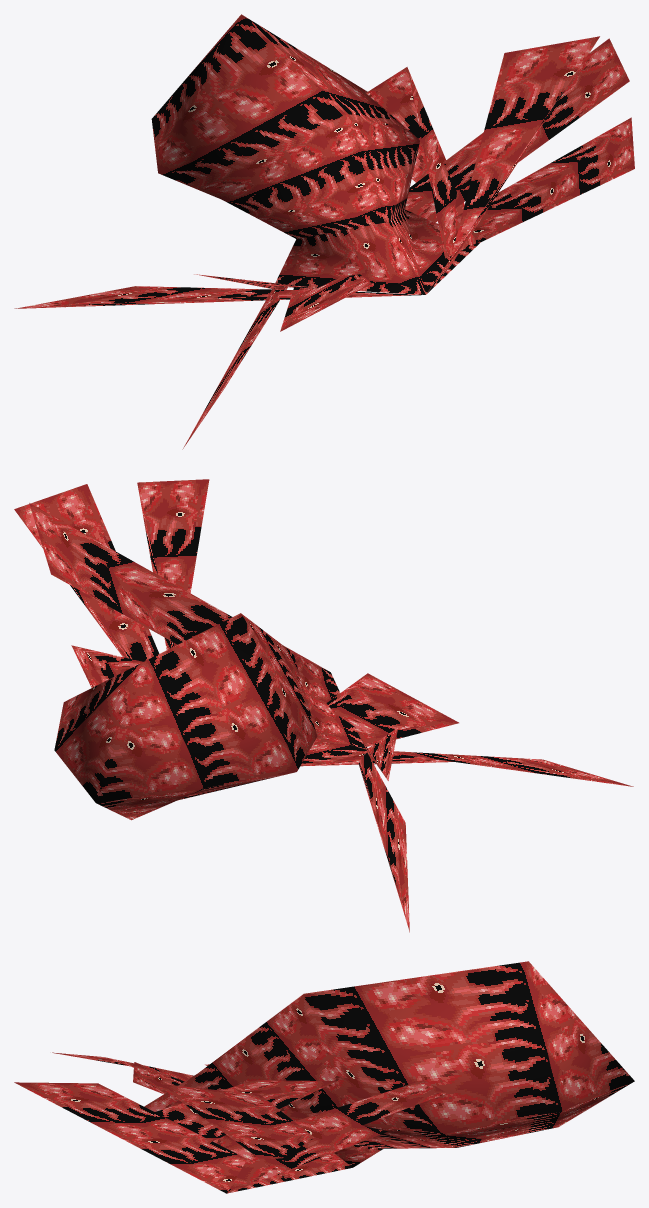
File: 2108_fish38.gltf
3 views of the same model, one above another, from view 1: azimuth 30°, elevation 25°; view 2: azimuth 150°, elevation 25°; view 3: azimuth 270°, elevation 25° (orthographic). The views are drawn at different scales.
Parts seen in each view (by area): view 1: 2108_fish38; view 2: 2108_fish38; view 3: 2108_fish38.
Part boxes in pixels (x1,y1,x2,y2): 2108_fish38: (14, 14, 634, 449); 2108_fish38: (14, 479, 633, 932); 2108_fish38: (14, 961, 634, 1193).
Size of the model in its own units: 0.709 by 0.3012 by 0.6506.
Materials: 1 (1 with a texture image).
